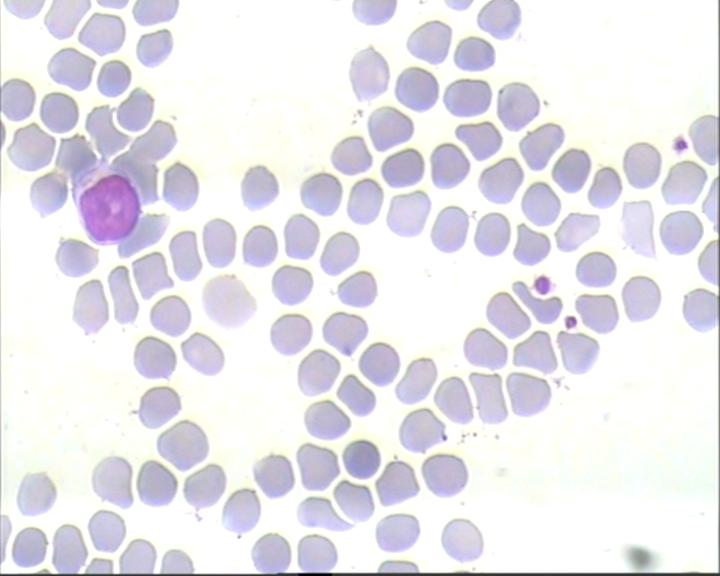lymp: (63, 159, 148, 246)
